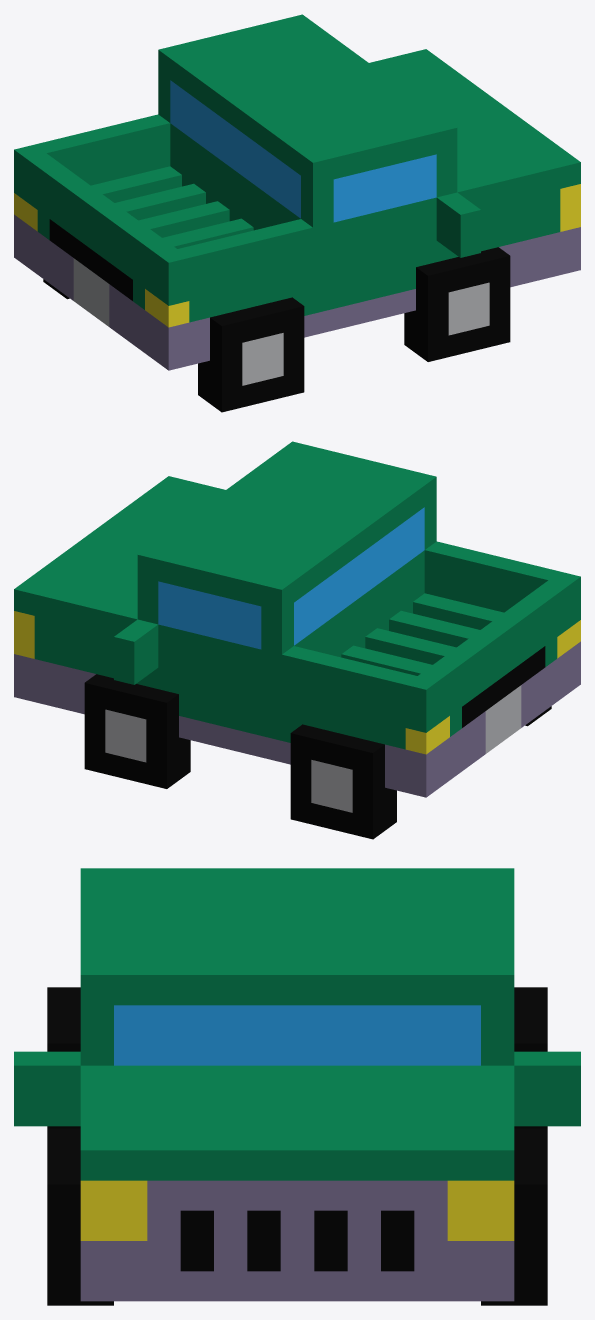
Rendered from pickup_b.obj.
The picture shows the model from 3 angles, top to bottom: view 1: azimuth 30°, elevation 25°; view 2: azimuth 150°, elevation 25°; view 3: azimuth 270°, elevation 25°; orthographic projection. The views are drawn at different scales.
Size of the model in its own units: 2 by 1 by 1.7.
Materials: 1 (1 with a texture image).
